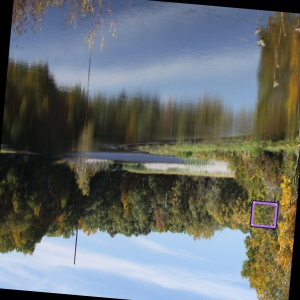square: (248, 197, 279, 231)
